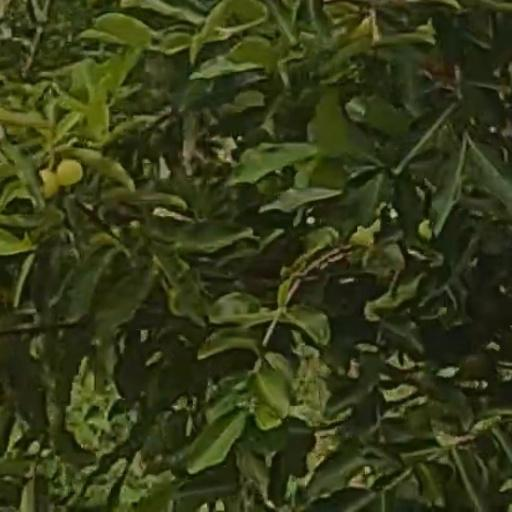acerola: (58, 161, 82, 184), (40, 171, 58, 197)
